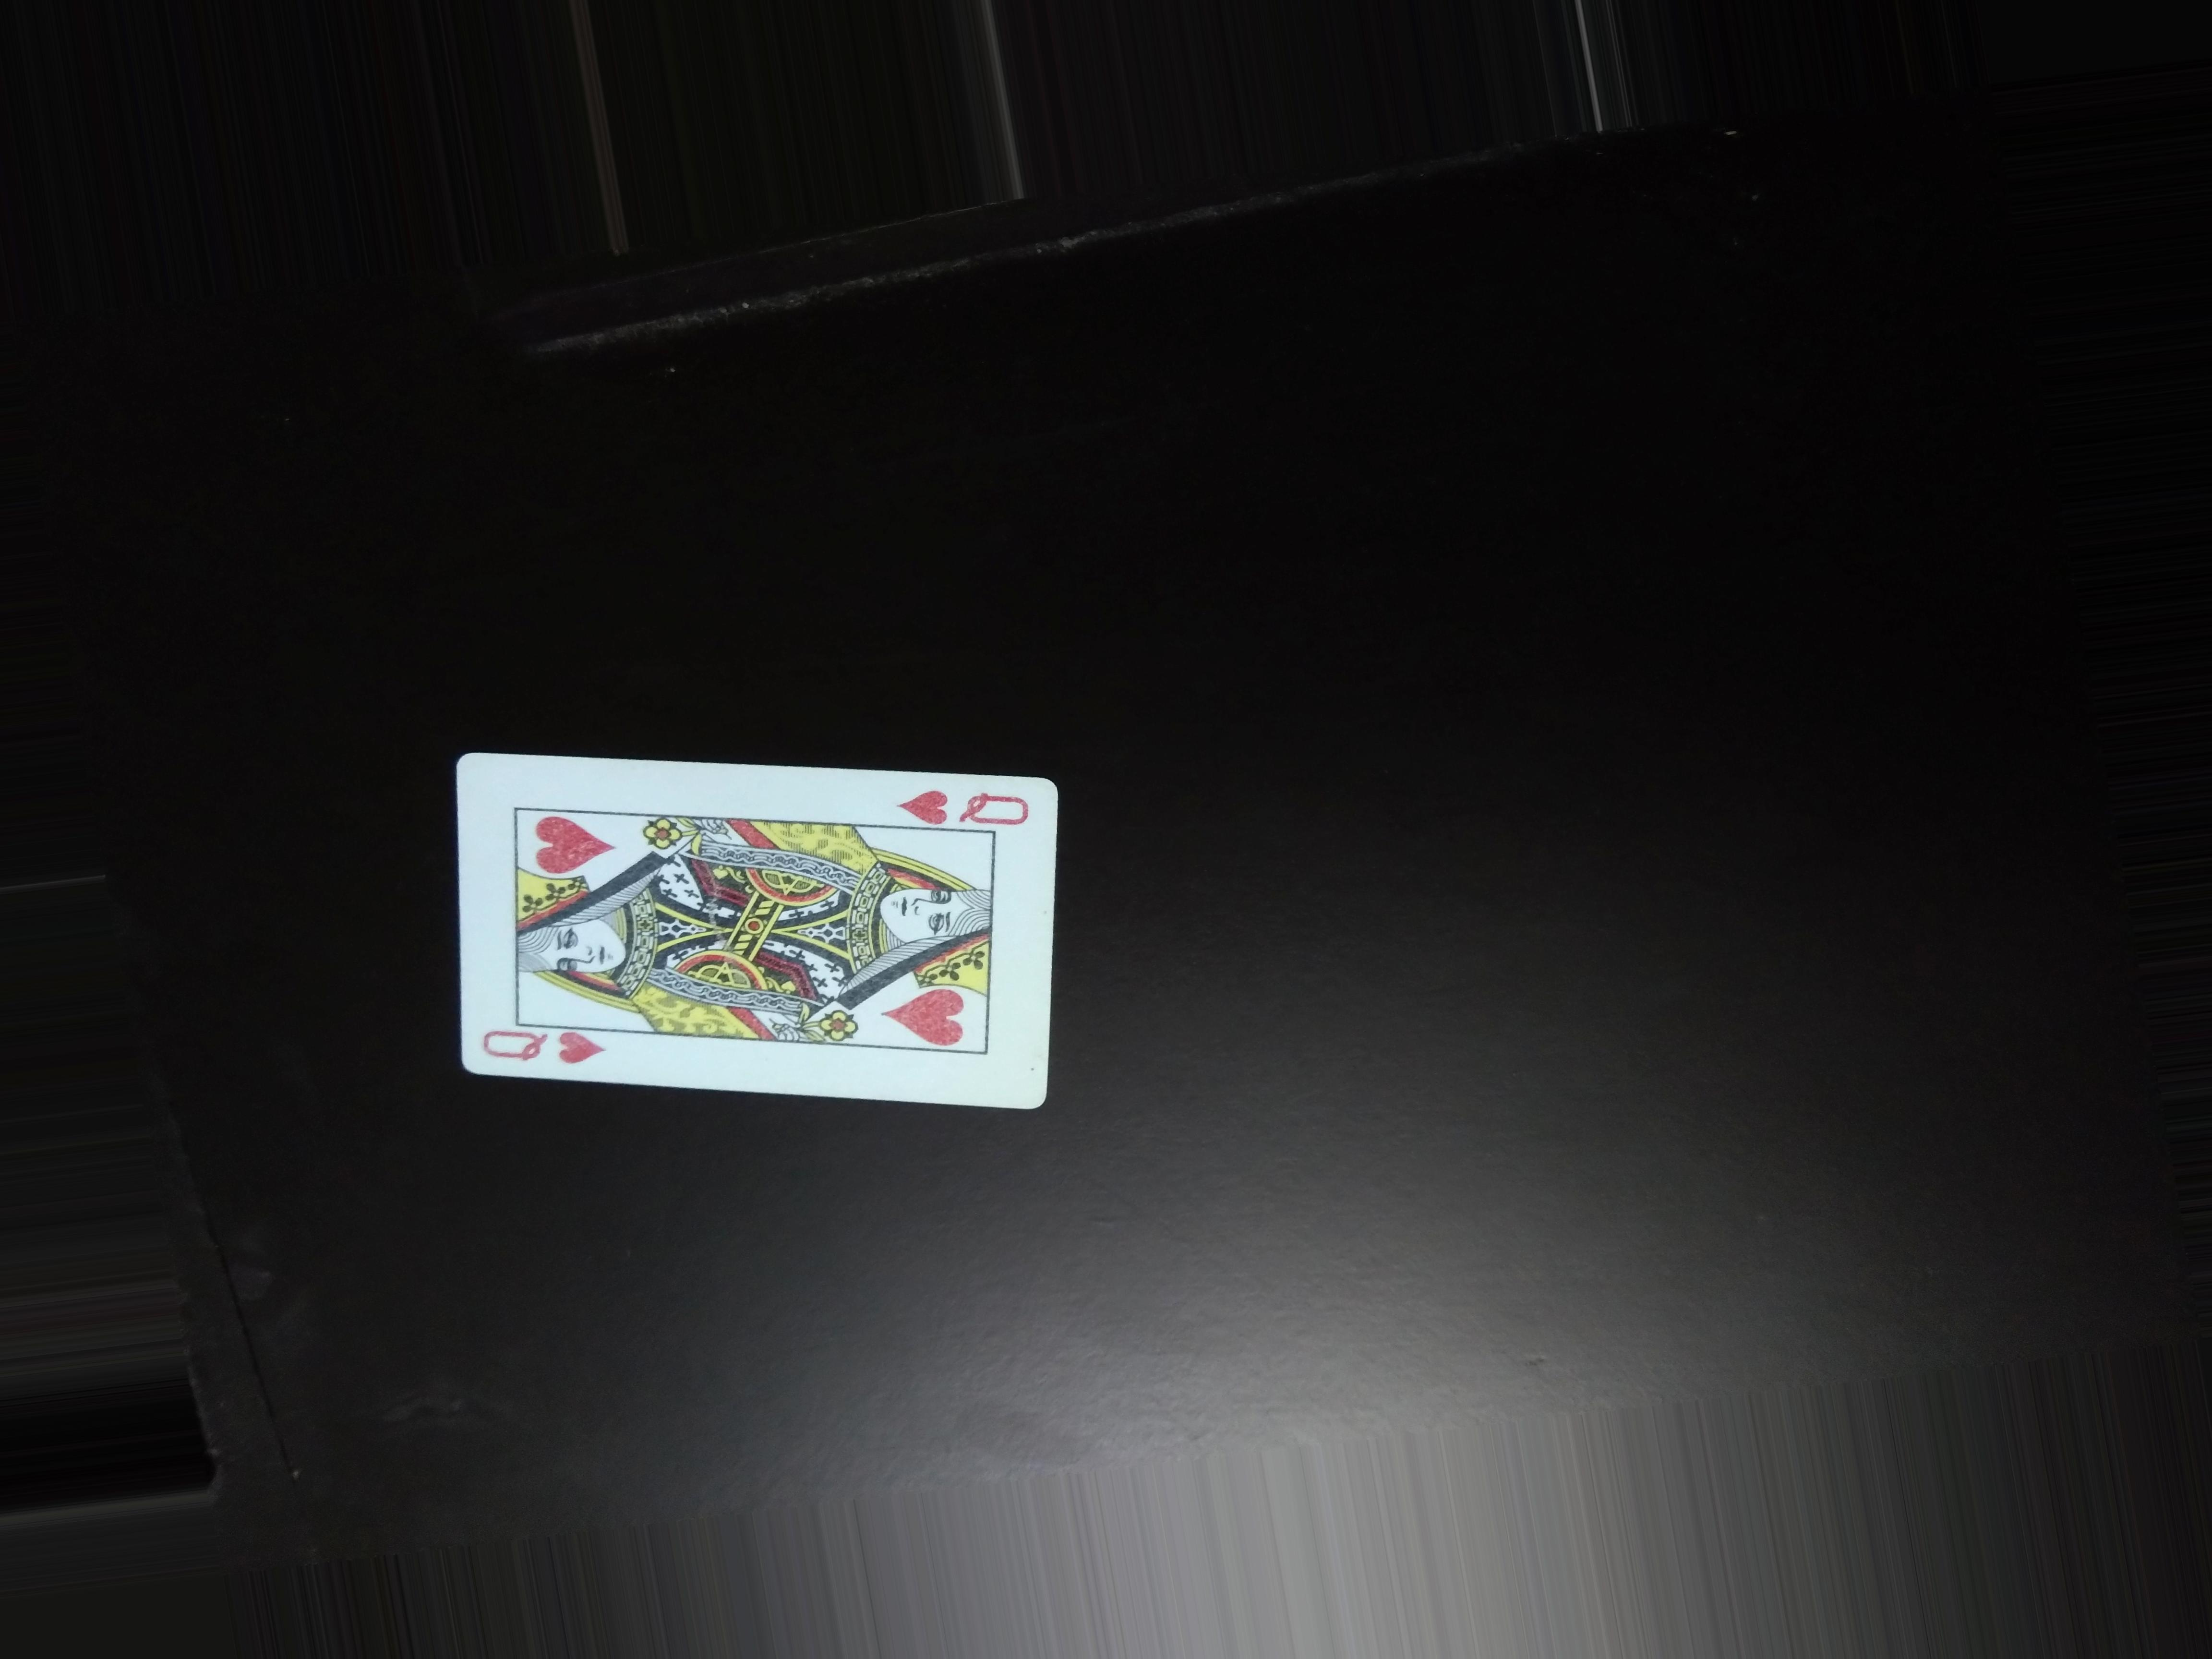QH: (883, 775, 1035, 836)
